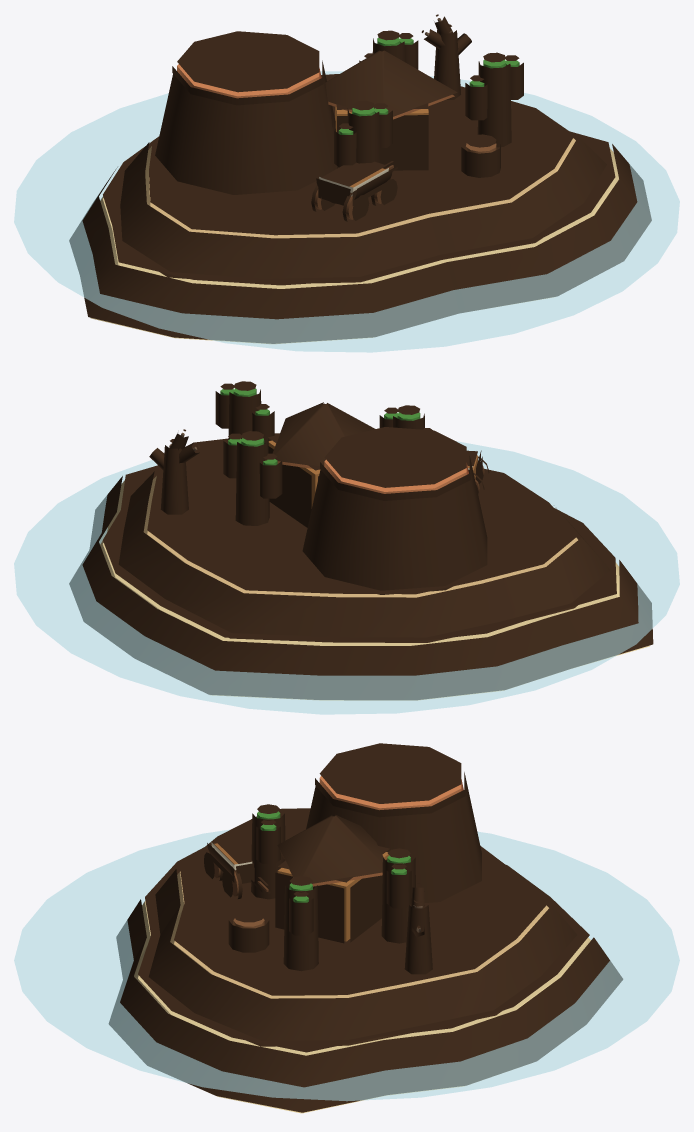
The model's file is island-desert.glb.
The picture shows the model from 3 angles, top to bottom: view 1: azimuth 30°, elevation 25°; view 2: azimuth 150°, elevation 25°; view 3: azimuth 270°, elevation 25°; orthographic projection.
Parts seen in each view (by area): view 1: outline (×17), Group (×2); view 2: outline (×14), Group; view 3: outline (×15), Group (×2).
Part boxes in pixels (bbox=[...]): outline (×17): bbox=[69, 24, 651, 343]; Group (×2): bbox=[14, 64, 679, 352]; outline (×14): bbox=[69, 381, 653, 700]; Group: bbox=[14, 441, 679, 714]; outline (×15): bbox=[108, 743, 622, 1112]; Group (×2): bbox=[14, 776, 679, 1113].
Bounding box in the file's own units: 5.1 × 1.56 × 5.1.
